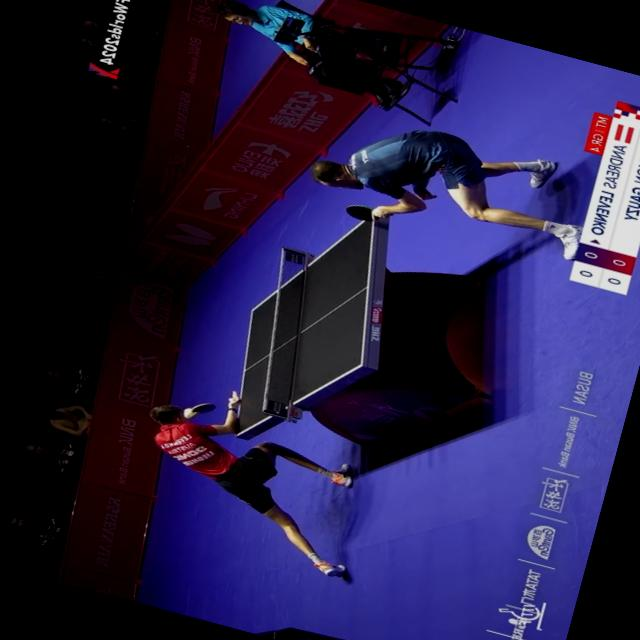TT Net: (262, 246, 311, 420)
TT Racket: (335, 202, 385, 222), (187, 396, 217, 418)
TT Table: (236, 194, 383, 449)
